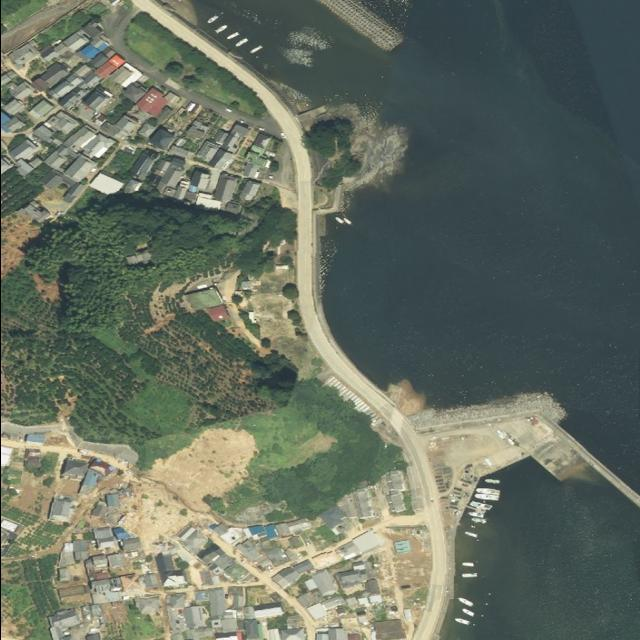landslide: (143, 429, 255, 513), (121, 484, 190, 556)
